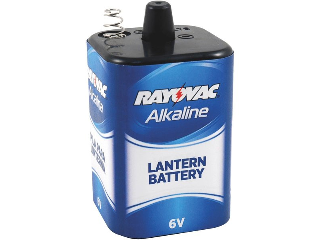6V: (80, 1, 245, 238)
